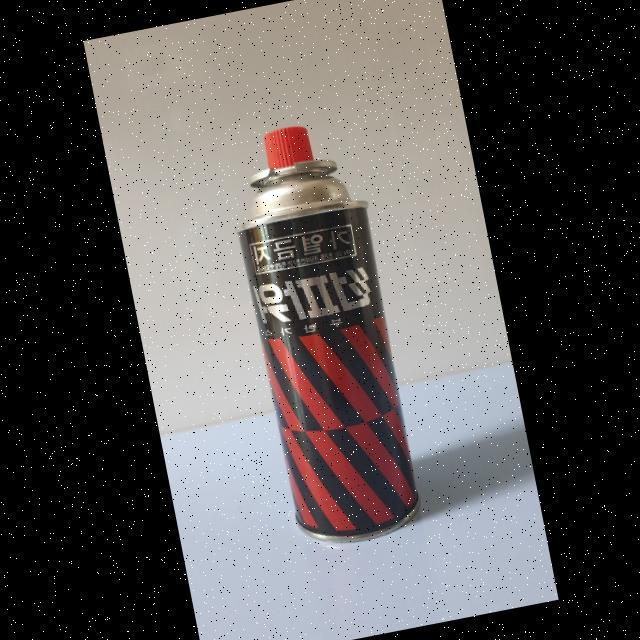chemical_spray_can: (184, 97, 456, 583)
